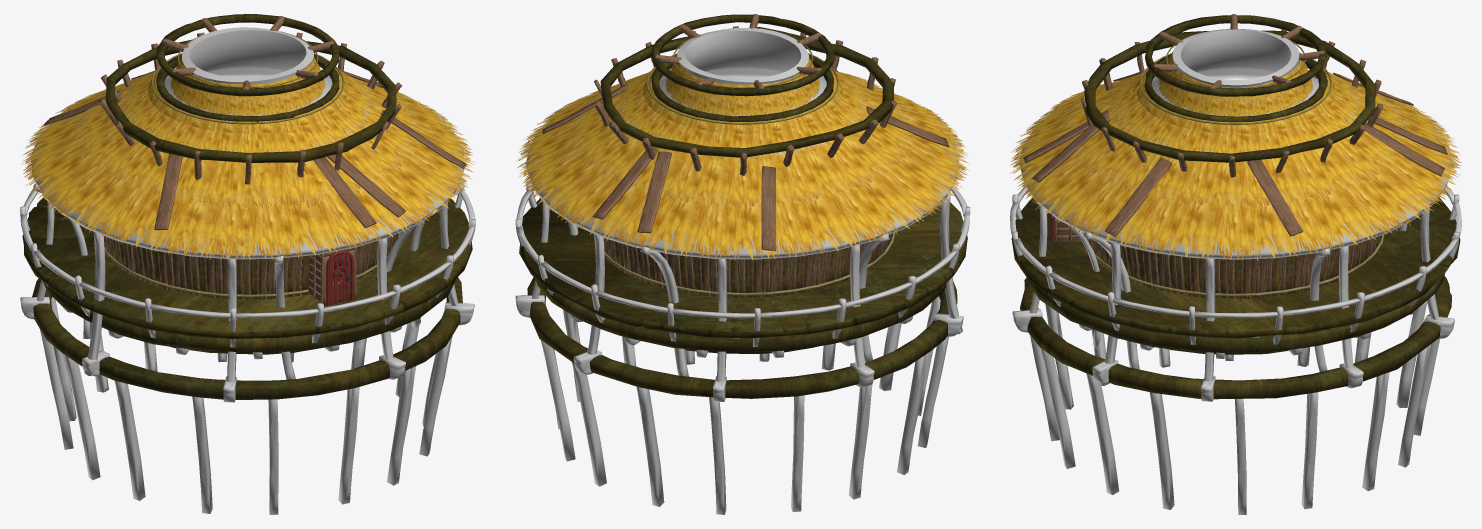
Rendered from SM_hut_02.fbx.
3 views of the same model, side by side, from view 1: azimuth 30°, elevation 25°; view 2: azimuth 150°, elevation 25°; view 3: azimuth 270°, elevation 25° (orthographic).
Visible parts, largest first — view 1: hut_02; view 2: hut_02; view 3: hut_02.
Boxes of the visible parts, <box> form: hut_02: <box>20,14,475,514</box>; hut_02: <box>515,14,970,514</box>; hut_02: <box>1010,14,1461,514</box>.
Bounding box in the file's own units: 2306 × 2117 × 2306.
